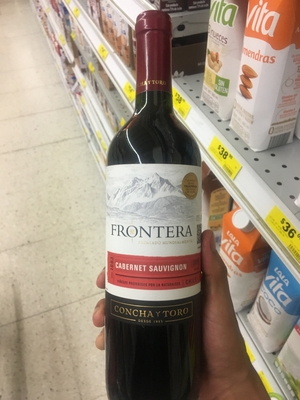frontera cabernet sauvignon: (101, 19, 228, 400)
